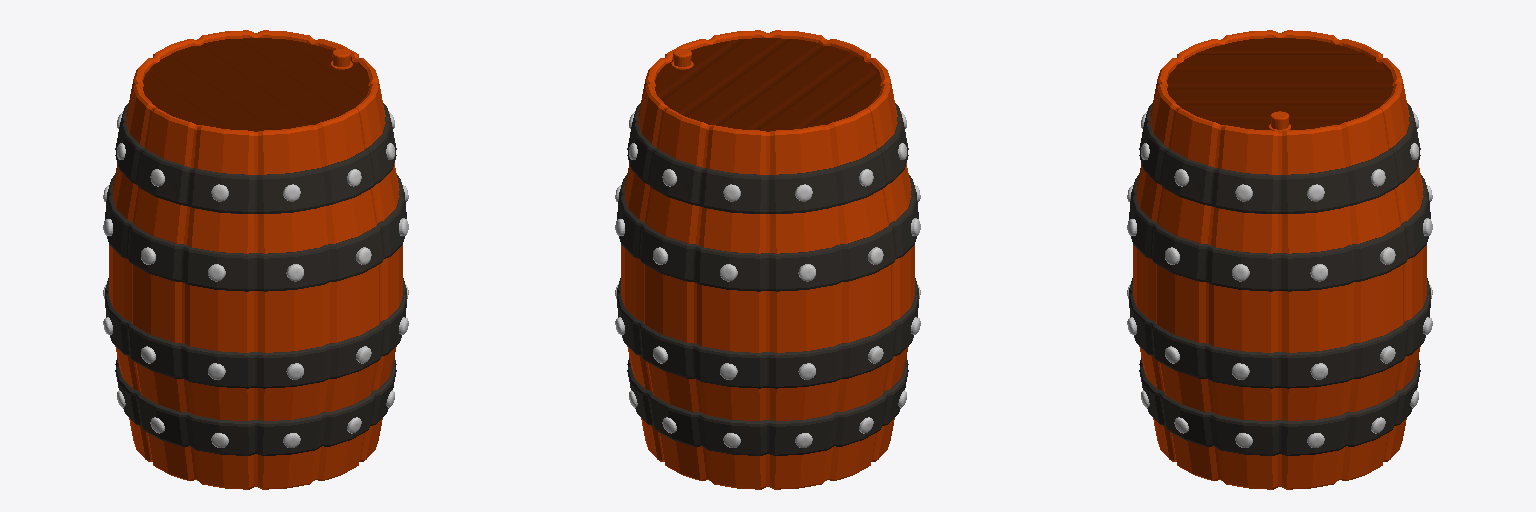
Rendered from barrel.obj.
The picture shows the model from 3 angles: view 1: azimuth 30°, elevation 25°; view 2: azimuth 150°, elevation 25°; view 3: azimuth 270°, elevation 25°; orthographic projection.
Visible parts, largest first — view 1: candel, medium_clip, wooden_clip_medium, high_clip, medium_cliping; view 2: candel, medium_clip, wooden_clip_medium, high_clip, medium_cliping; view 3: candel, medium_clip, wooden_clip_medium, high_clip, medium_cliping.
Part boxes in pixels (bbox=[...]): candel: bbox=[109, 30, 402, 489]; medium_clip: bbox=[105, 103, 406, 455]; wooden_clip_medium: bbox=[143, 38, 368, 131]; high_clip: bbox=[103, 185, 408, 379]; medium_cliping: bbox=[117, 112, 394, 447]; candel: bbox=[621, 30, 914, 489]; medium_clip: bbox=[617, 103, 918, 455]; wooden_clip_medium: bbox=[655, 38, 880, 131]; high_clip: bbox=[615, 185, 920, 379]; medium_cliping: bbox=[629, 112, 906, 447]; candel: bbox=[1133, 30, 1426, 489]; medium_clip: bbox=[1129, 103, 1430, 455]; wooden_clip_medium: bbox=[1167, 38, 1392, 129]; high_clip: bbox=[1127, 185, 1432, 379]; medium_cliping: bbox=[1141, 112, 1418, 447].
Bounding box in the file's own units: 0.7326 × 0.9686 × 0.7326.